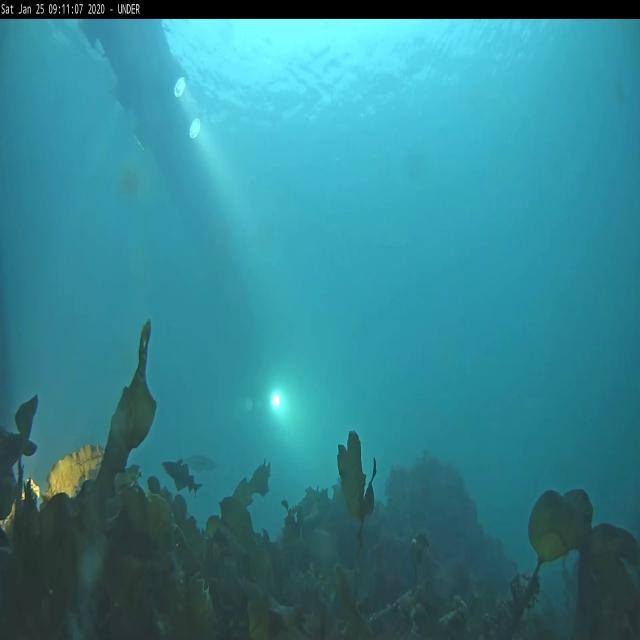fish: (160, 462, 200, 502), (186, 452, 222, 480)
